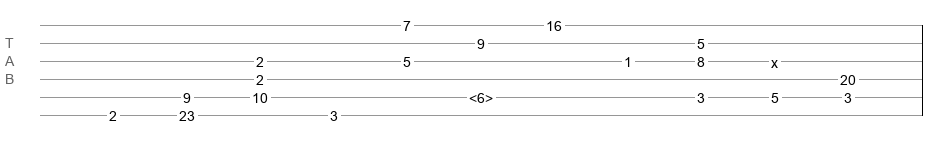1: (624, 54, 632, 64)
10: (252, 90, 268, 100)
16: (546, 18, 562, 28)
2: (109, 108, 117, 118), (256, 54, 264, 64), (256, 72, 264, 82)
20: (840, 72, 856, 82)
23: (179, 108, 195, 118)
3: (330, 108, 338, 118), (697, 90, 705, 100), (844, 90, 852, 100)
5: (403, 54, 411, 64), (697, 36, 705, 46), (771, 90, 779, 100)
7: (403, 18, 411, 28)
8: (697, 54, 705, 64)
9: (183, 90, 191, 100), (477, 36, 485, 46)
harmonic: (469, 90, 493, 100)
x: (771, 55, 778, 63)
